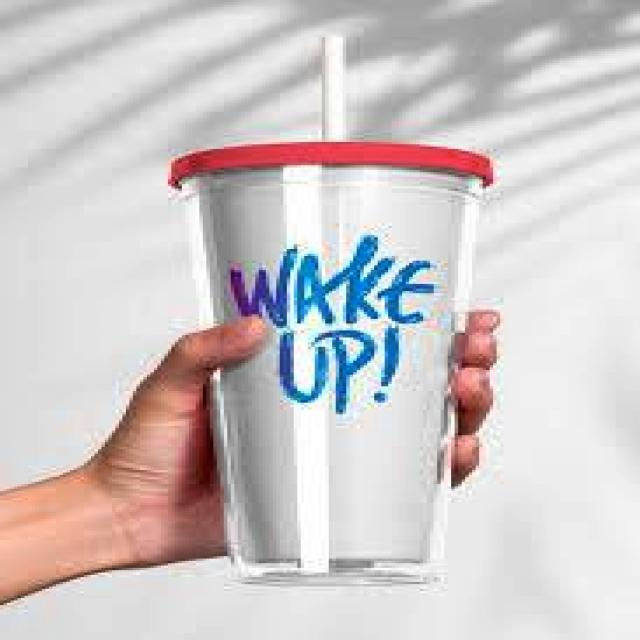bottle: (162, 32, 516, 586)
